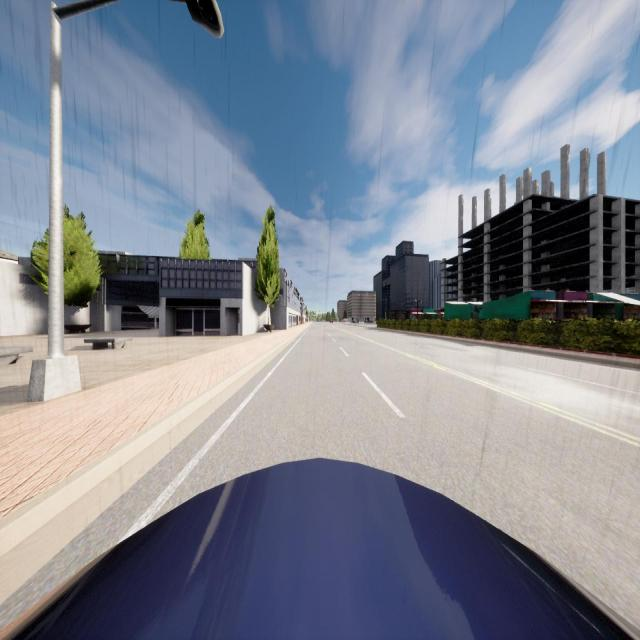Vehicle: (0, 457, 640, 640), (352, 320, 359, 324), (330, 320, 333, 324)
